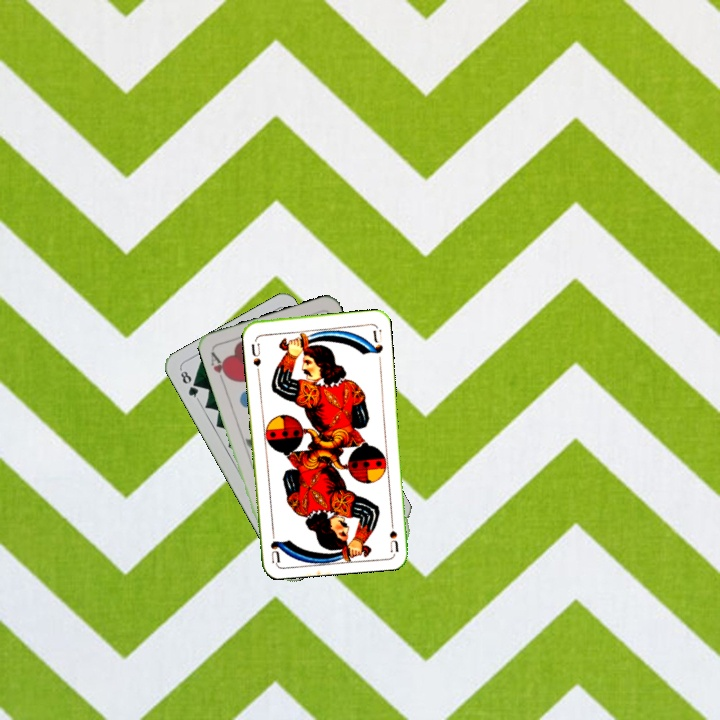G8: (176, 365, 202, 403)
HA: (207, 347, 232, 387)
SU: (385, 512, 401, 553), (248, 339, 264, 375)
